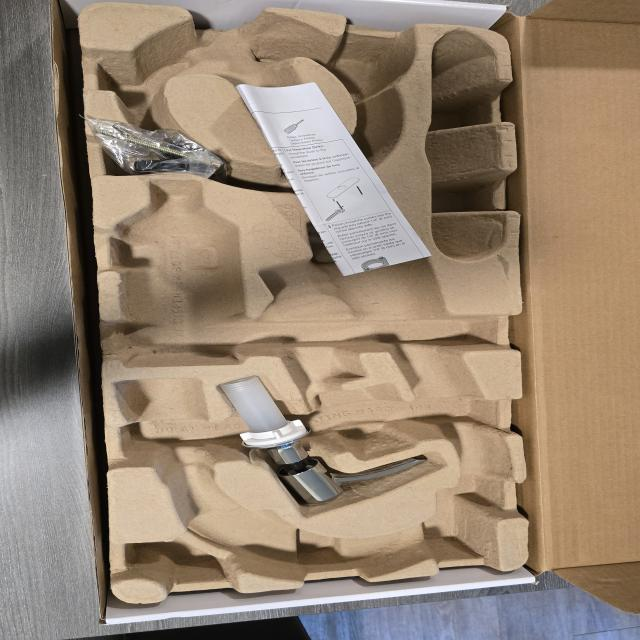1m: (114, 12, 507, 579)
2: (223, 375, 428, 502)
3m: (113, 181, 241, 366)
4m: (426, 32, 504, 262)
5m: (332, 40, 401, 95)
6m: (97, 43, 195, 115)
7: (77, 114, 229, 177)
8: (236, 82, 432, 277)
